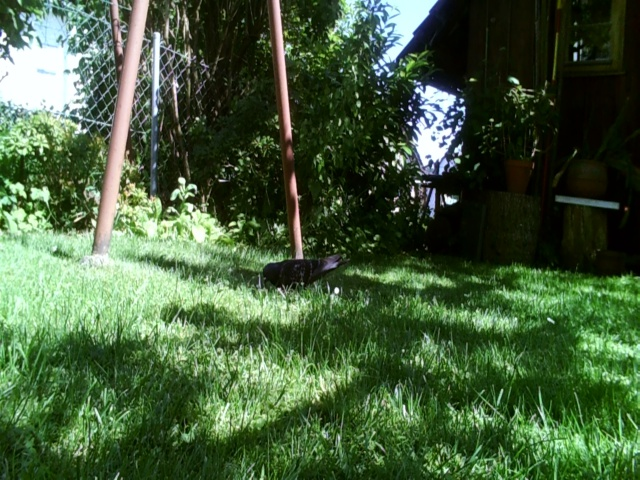Pigeon: (246, 246, 358, 296)
